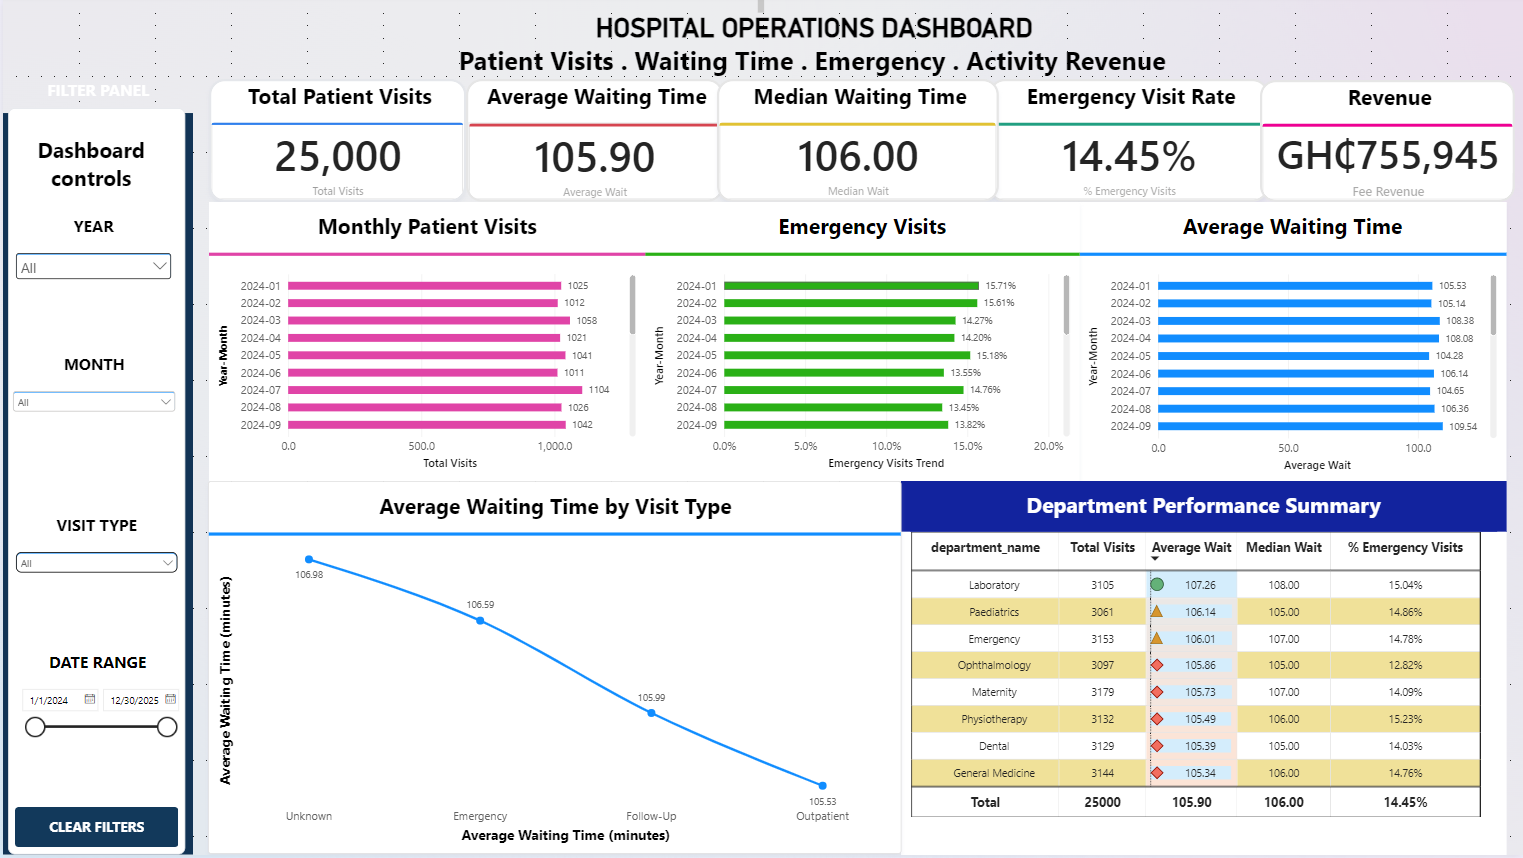

What the dashboard file says about the page in this screenshot:
{"tool":"powerbi","page":{"name":"Executive Dashboard","canvas":[1920,1080],"ordinal":0},"visuals":[{"type":"shape","title":"FILTER PANEL","box":[0,100,240.5,979.6],"z":0},{"type":"textbox","title":"FILTERS","box":[6.3,136.7,224,942.9],"z":1000},{"type":"textbox","box":[39.8,0,921,15.6],"z":2000},{"type":"textbox","box":[301.9,15,1246.6,85.2],"z":3000},{"type":"cardVisual","title":"Total Patient Visits","fields":{"Data":[" visits.Total Visits"]},"box":[260.1,99.6,324.7,155.3],"z":4000},{"type":"cardVisual","title":"Average Waiting Time","fields":{"Data":[" visits.Average Wait"]},"box":[584.8,99.6,324.7,155.3],"z":5000},{"type":"cardVisual","title":" Emergency Visit Rate","fields":{"Data":[" visits.% Emergency Visits"]},"box":[1245.9,99.6,353.2,155.3],"z":6000},{"type":"cardVisual","title":"Revenue","fields":{"Data":[" visits.Fee Revenue"]},"box":[1587.5,100.9,322.2,154],"z":7000},{"type":"cardVisual","title":"Median Waiting Time","fields":{"Data":[" visits.Median Wait"]},"box":[901.8,99.6,355.8,155.3],"z":8000},{"type":"slicer","title":"DATE RANGE","fields":{"Values":[" visits.visit_date"]},"box":[16.5,822.7,206.3,158.2],"z":9000},{"type":"clusteredBarChart","title":"Average Waiting Time ","fields":{"Category":[" visits.Year-Month"],"Y":[" visits.Average Wait"]},"box":[1359.8,254.9,539.5,353.2],"z":10000},{"type":"clusteredBarChart","title":"Emergency Visits ","fields":{"Category":[" visits.Year-Month"],"Y":[" visits.% Emergency Visits"]},"box":[811.2,254.9,548.6,353.2],"z":11000},{"type":"clusteredBarChart","title":"Monthly Patient Visits ","fields":{"Category":[" visits.Year-Month"],"Y":[" visits.Total Visits"]},"box":[260.1,254.9,551.2,353.2],"z":12000},{"type":"slicer","title":"YEAR","fields":{"Values":[" visits.Year"]},"box":[11.4,272.1,206.3,134.2],"z":13000},{"type":"slicer","title":"MONTH","fields":{"Values":[" visits.Month Name"]},"box":[7.6,445.5,215.2,163.3],"z":14000},{"type":"slicer","title":"VISIT TYPE","fields":{"Values":[" visits.Visit Type Display"]},"box":[11.4,649.3,213.9,148.1],"z":15000},{"type":"textbox","title":"Dashboard controls","box":[16.5,170.9,189.8,83.5],"z":16000},{"type":"actionButton","box":[15.2,1018.9,206.3,50.6],"z":17000},{"type":"tableEx","title":"Department Performance Summary","fields":{"Values":["departments.department_name"," visits.Total Visits"," visits.Average Wait"," visits.Median Wait"," visits.% Emergency Visits"]},"box":[1134.7,608.1,764.6,473.5],"z":18000},{"type":"lineChart","title":"Average Waiting Time by Visit Type","fields":{"Category":[" visits.Visit Type Display"],"Y":[" visits.Average Wait"]},"box":[258.8,608.1,875.9,470.9],"z":19000}]}

Visuals, with their boxes in screenshot pixels (x1, y1, x2, y2), scaled from the page's 1920x1080 canvas onto the 1523x858 screenshot:
"FILTER PANEL" shape: region(0, 79, 191, 857)
"FILTERS" textbox: region(5, 109, 183, 857)
textbox: region(32, 0, 762, 12)
textbox: region(239, 12, 1228, 80)
"Total Patient Visits" cardVisual: region(206, 79, 464, 203)
"Average Waiting Time" cardVisual: region(464, 79, 721, 203)
" Emergency Visit Rate" cardVisual: region(988, 79, 1268, 203)
"Revenue" cardVisual: region(1259, 80, 1515, 203)
"Median Waiting Time" cardVisual: region(715, 79, 998, 203)
"DATE RANGE" slicer: region(13, 654, 177, 779)
"Average Waiting Time " clusteredBarChart: region(1079, 203, 1507, 483)
"Emergency Visits " clusteredBarChart: region(643, 203, 1079, 483)
"Monthly Patient Visits " clusteredBarChart: region(206, 203, 644, 483)
"YEAR" slicer: region(9, 216, 173, 323)
"MONTH" slicer: region(6, 354, 177, 484)
"VISIT TYPE" slicer: region(9, 516, 179, 633)
"Dashboard controls" textbox: region(13, 136, 164, 202)
actionButton: region(12, 809, 176, 850)
"Department Performance Summary" tableEx: region(900, 483, 1507, 857)
"Average Waiting Time by Visit Type" lineChart: region(205, 483, 900, 857)
